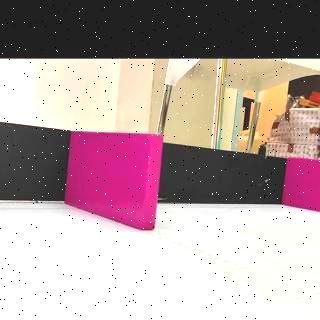xparking: (70, 135, 156, 224), (287, 160, 320, 208)
